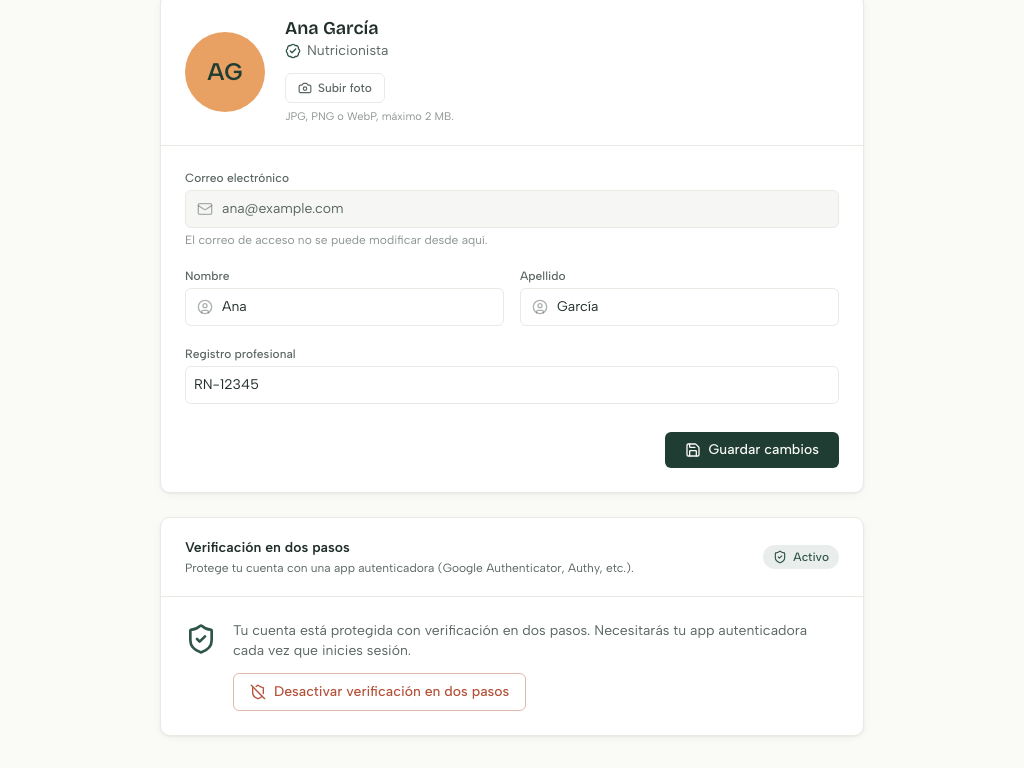
it: MiPerfil › MFA — confirmación al desactivar el doble factor › pulsar "Desactivar" NO desactiva de inmediato: pide confirmación
This screenshot has width=1024, height=768.
(page scrolled)
Click the button "Desactivar verificación en dos pasos": (380, 692) [233,673,526,711]
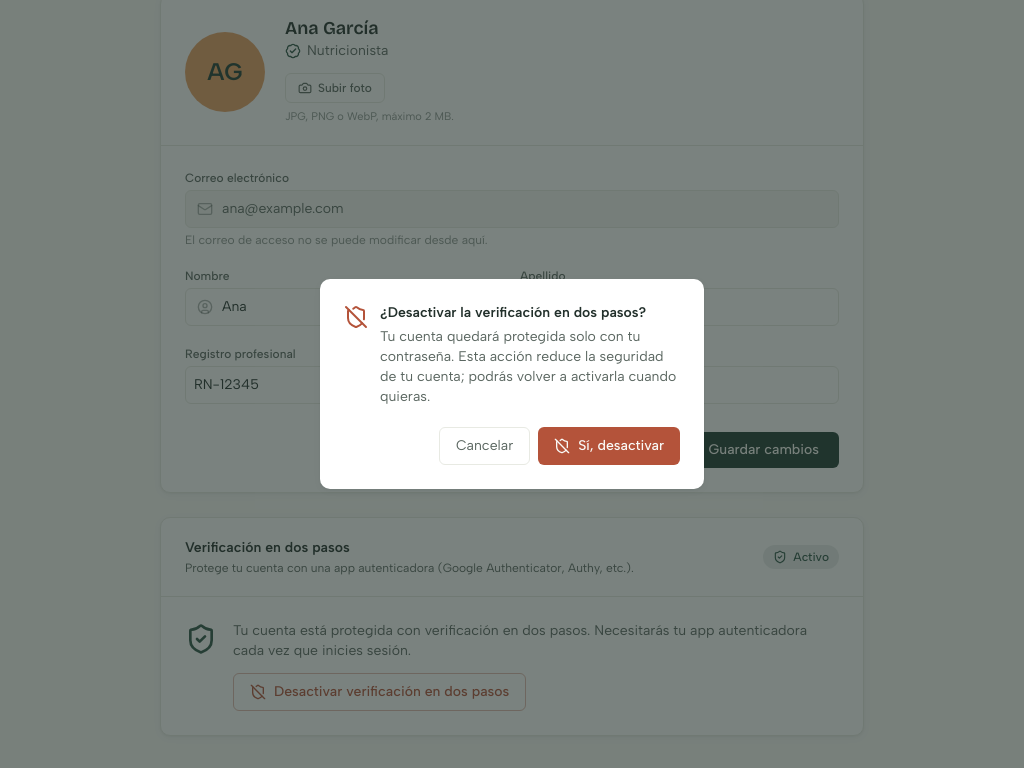
Expected: the heading "¿Desactivar la verificación en dos pasos?" is shown, [380,303,680,323]
